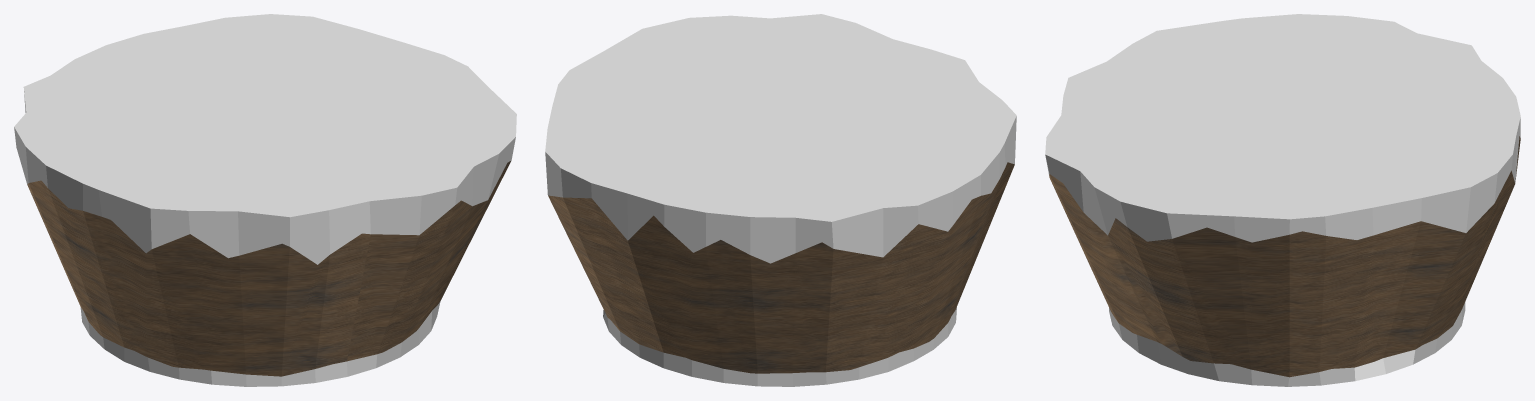
File: GrassRoundedTaper.fbx
3 views of the same model, side by side, from view 1: azimuth 30°, elevation 25°; view 2: azimuth 150°, elevation 25°; view 3: azimuth 270°, elevation 25° (orthographic).
Visible parts, largest first — view 1: GrassRoundedTaper; view 2: GrassRoundedTaper; view 3: GrassRoundedTaper.
Boxes of the visible parts, x1=… form: GrassRoundedTaper: x1=14, y1=14, x2=516, y2=386; GrassRoundedTaper: x1=545, y1=14, x2=1016, y2=386; GrassRoundedTaper: x1=1045, y1=14, x2=1520, y2=386.
Size of the model in its own units: 7730 by 3419 by 7561.
